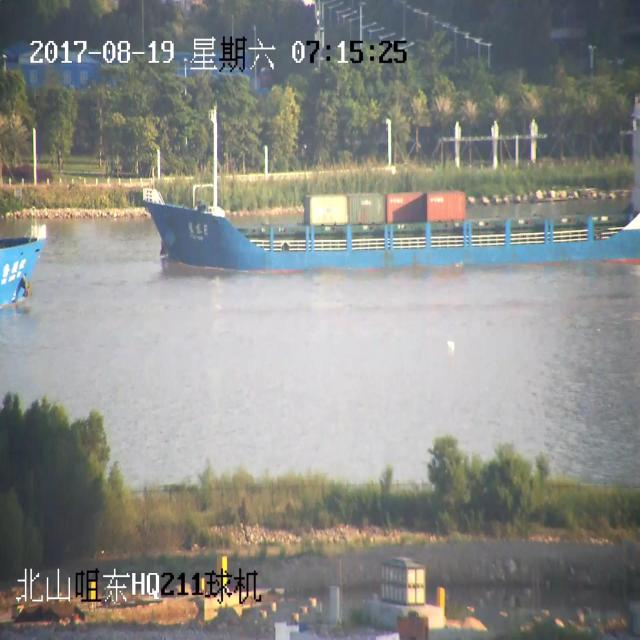cargoship: (125, 111, 640, 274)
